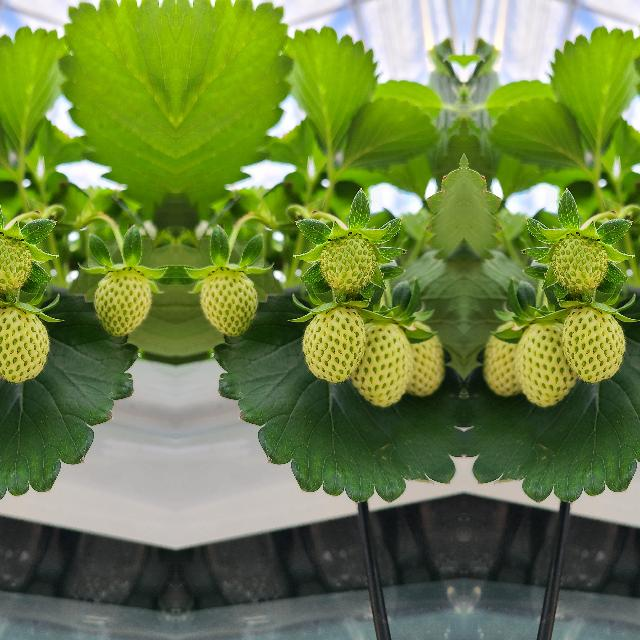Health_25: (300, 307, 366, 381), (560, 307, 626, 381), (0, 307, 49, 381)
